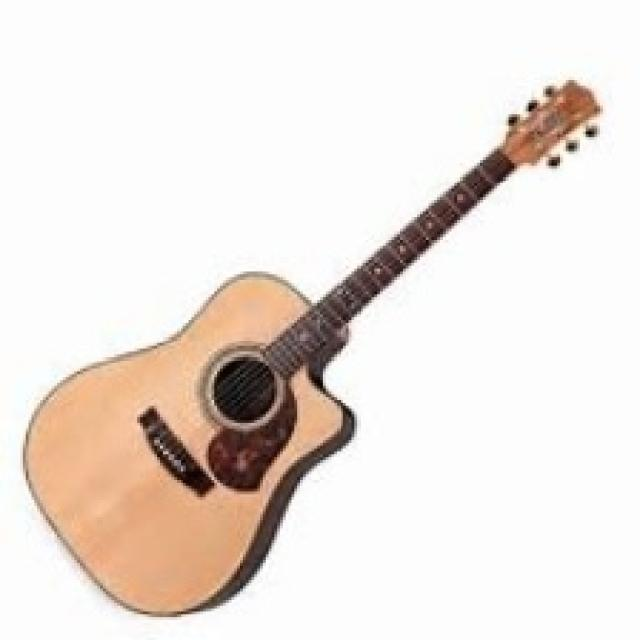guitar: (21, 79, 604, 614)
